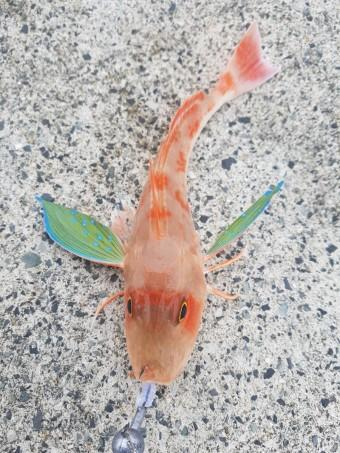fish: (37, 23, 285, 385)
